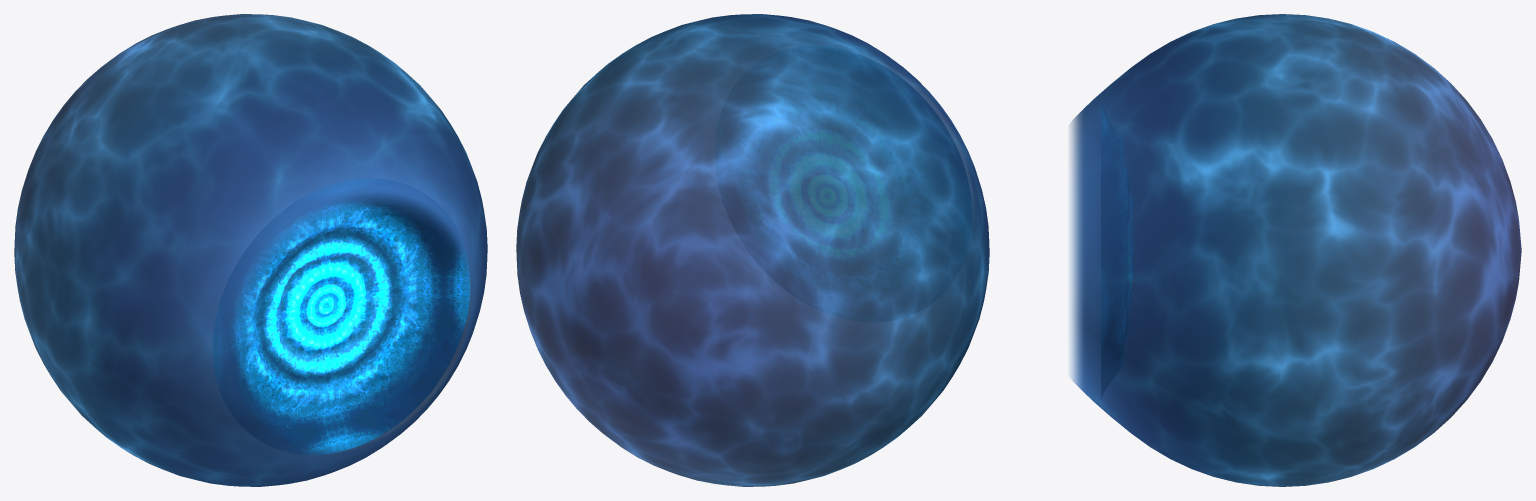
3 views of the same model, side by side, from view 1: azimuth 30°, elevation 25°; view 2: azimuth 150°, elevation 25°; view 3: azimuth 270°, elevation 25° (orthographic).
Parts seen in each view (by area): view 1: eye-illusion_1, irys_0; view 2: eye-illusion_1; view 3: eye-illusion_1, irys_0.
Boxes of the visible parts, box(x1,y1,x2,y2) form: eye-illusion_1: box(14, 14, 487, 486); irys_0: box(213, 179, 470, 454); eye-illusion_1: box(516, 14, 989, 486); eye-illusion_1: box(1070, 14, 1521, 486); irys_0: box(1101, 103, 1129, 397).
Bounding box in the file's own units: 0.1427 × 0.1427 × 0.1517.
2 materials, 2 textured.
